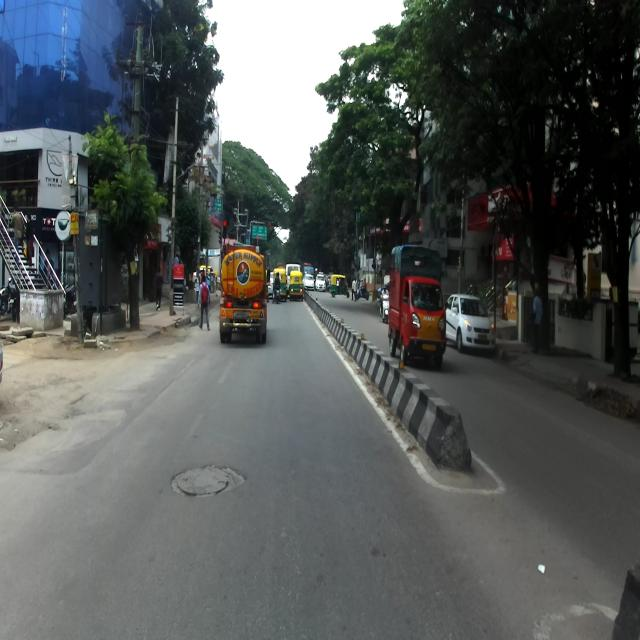truck ahead at: (389, 250, 448, 370), (216, 240, 268, 350)
